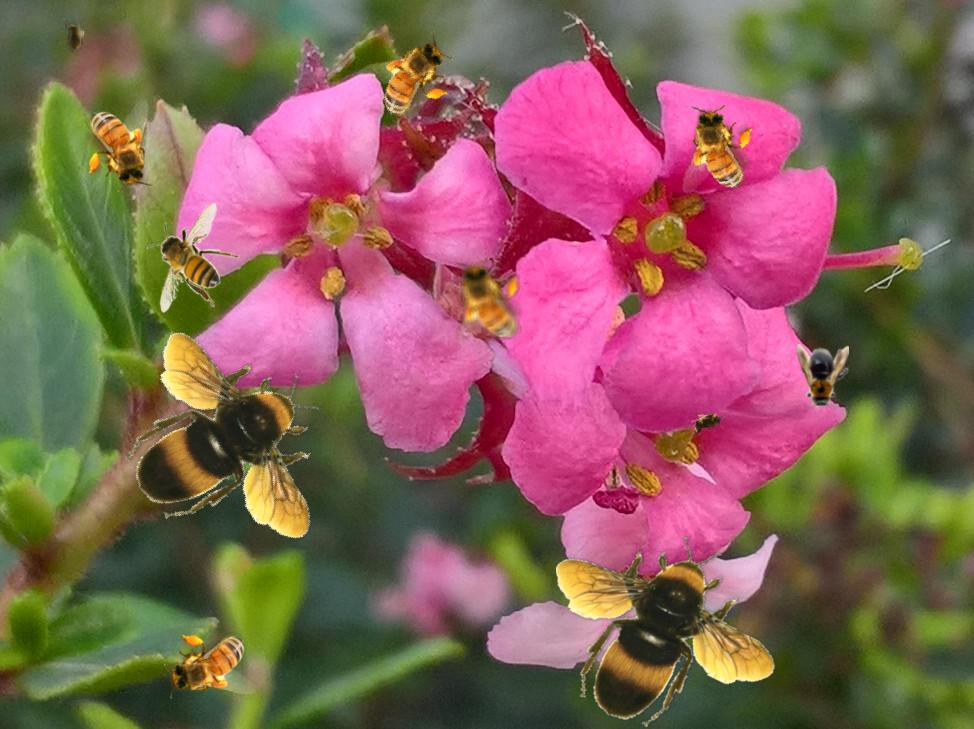Bee: (88, 307, 376, 586), (556, 536, 776, 727), (353, 28, 467, 129), (146, 202, 240, 313), (677, 100, 759, 203), (454, 258, 522, 351), (85, 99, 153, 192), (164, 631, 257, 699), (797, 344, 849, 412), (685, 406, 731, 440), (63, 18, 85, 58)
